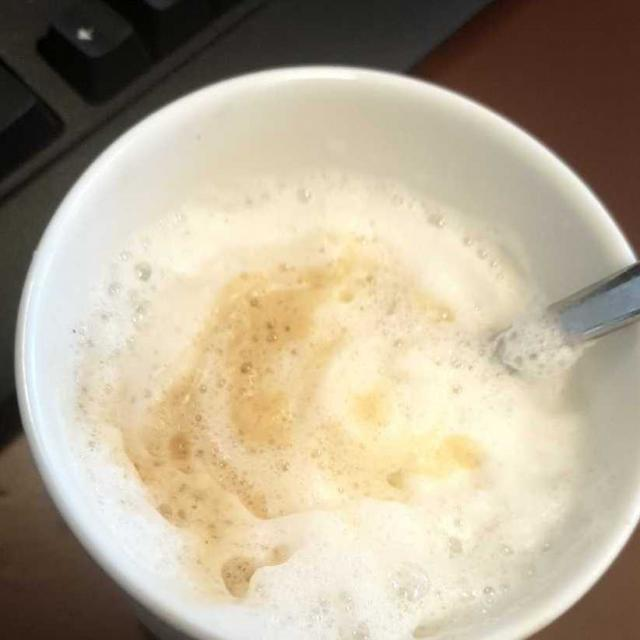cappuccino: (85, 184, 601, 610)
